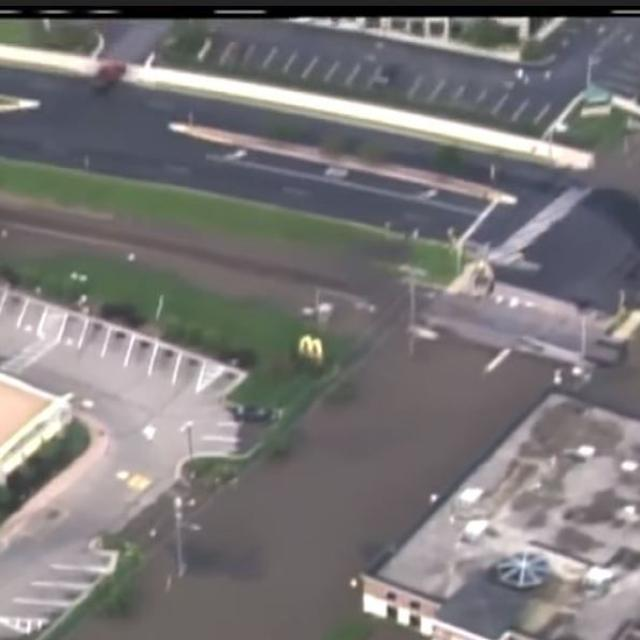flooded_areas: (10, 211, 628, 639)
